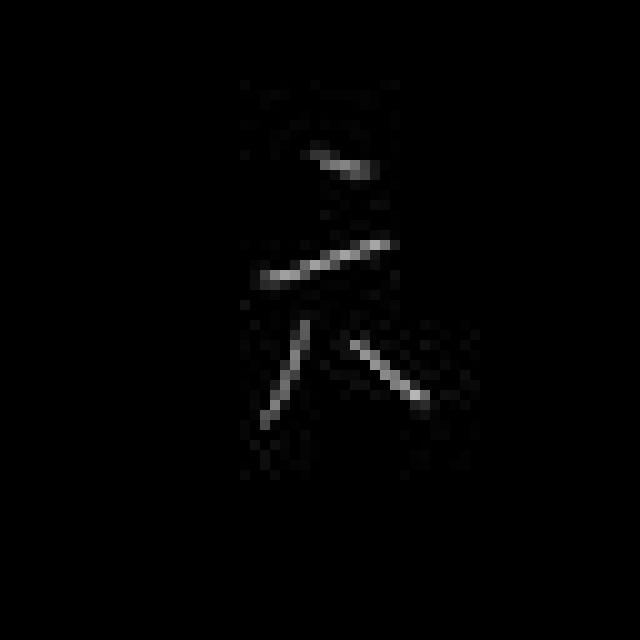6 -six-: (237, 140, 438, 438)
